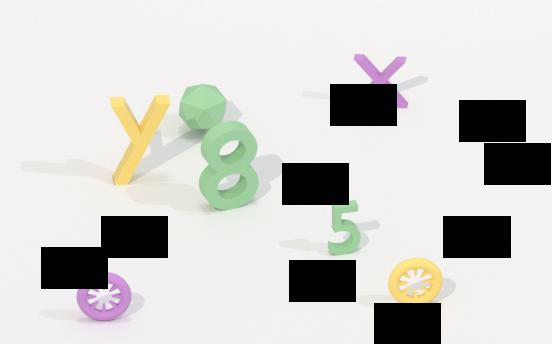5: (324, 199, 365, 257)
8: (193, 123, 263, 213)
Y: (103, 94, 173, 189)
dagiac: (177, 81, 232, 137)
tron: (387, 255, 447, 309), (76, 271, 137, 322)
x: (351, 51, 413, 110)
